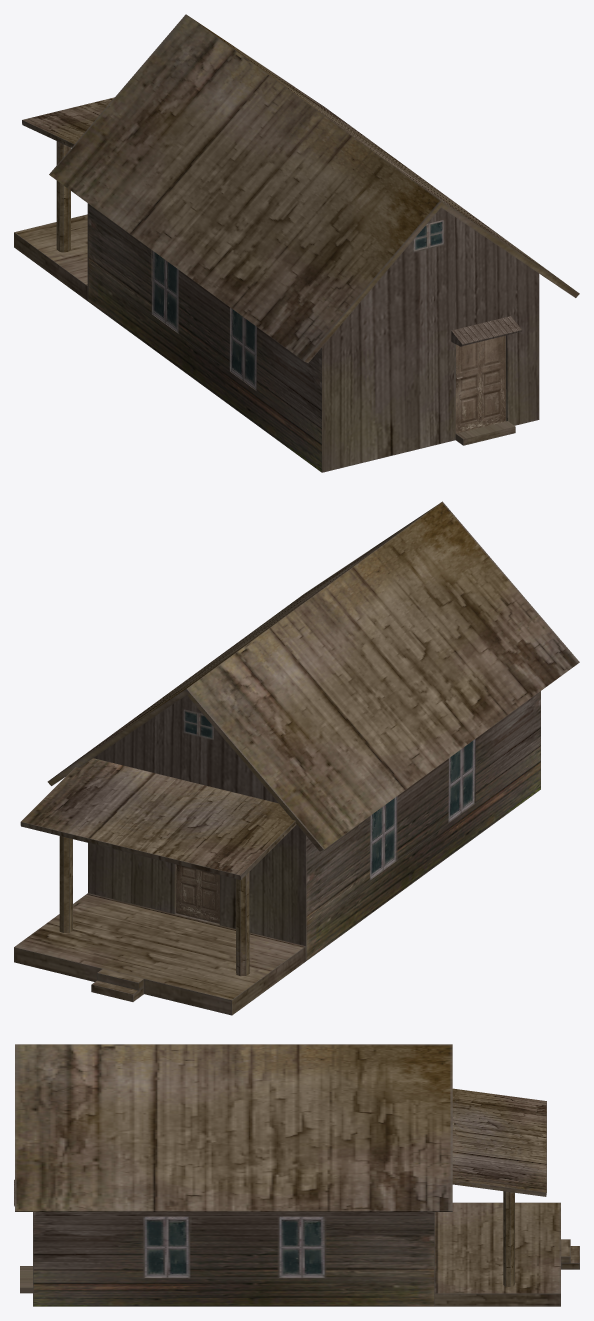
The model's file is Farmhouse.obj.
The picture shows the model from 3 angles, top to bottom: view 1: azimuth 30°, elevation 25°; view 2: azimuth 150°, elevation 25°; view 3: azimuth 270°, elevation 25°; orthographic projection. The views are drawn at different scales.
Visible parts, largest first — view 1: polySurface73; view 2: polySurface73; view 3: polySurface73.
Part boxes in pixels (x1,y1,x2,y2): polySurface73: (14,14,579,472); polySurface73: (14,501,579,1015); polySurface73: (14,1044,579,1306).
Size of the model in its own units: 24.28 by 21.28 by 50.36.
1 material, 1 textured.
